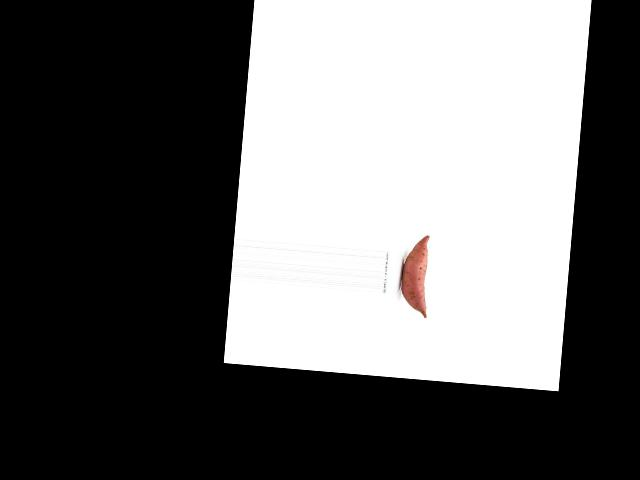sweet_potato: (397, 232, 437, 319)
